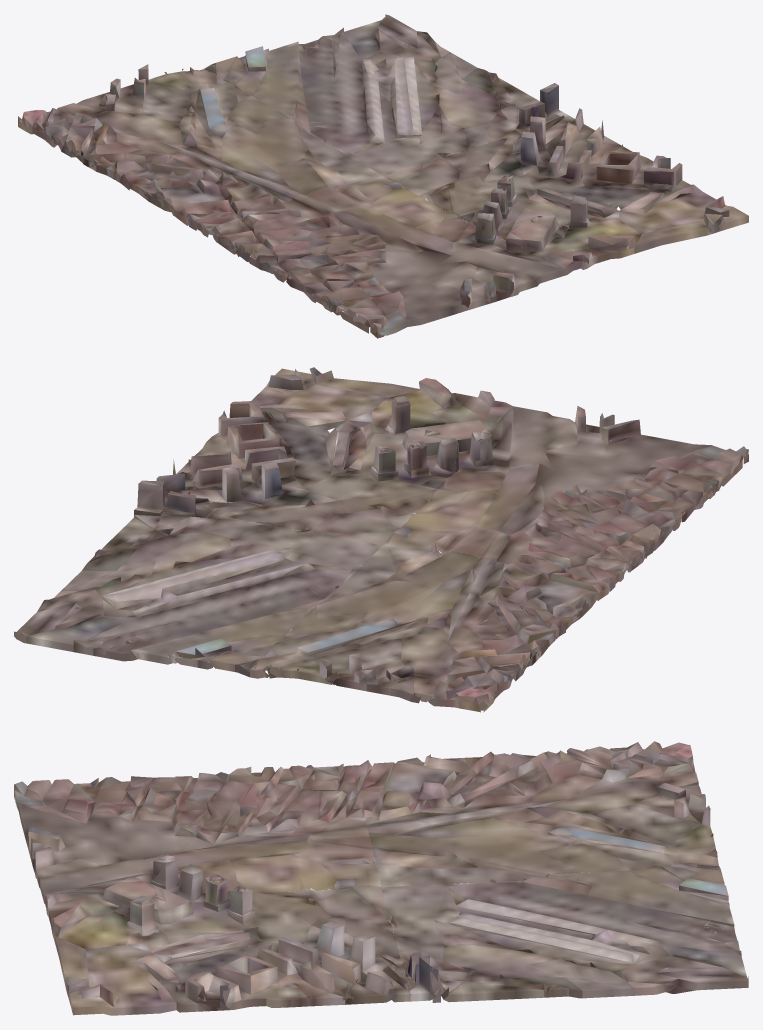
3 views of the same model, one above another, from view 1: azimuth 30°, elevation 25°; view 2: azimuth 150°, elevation 25°; view 3: azimuth 270°, elevation 25° (orthographic). The views are drawn at different scales.
Parts seen in each view (by area): view 1: Mesh_0; view 2: Mesh_0; view 3: Mesh_0.
Boxes of the visible parts, x1=… form: Mesh_0: x1=18, y1=14, x2=748, y2=338; Mesh_0: x1=14, y1=367, x2=748, y2=712; Mesh_0: x1=14, y1=741, x2=748, y2=1015.
Bounding box in the file's own units: 1075 × 99.48 × 1319.
Materials: 1 (1 with a texture image).
